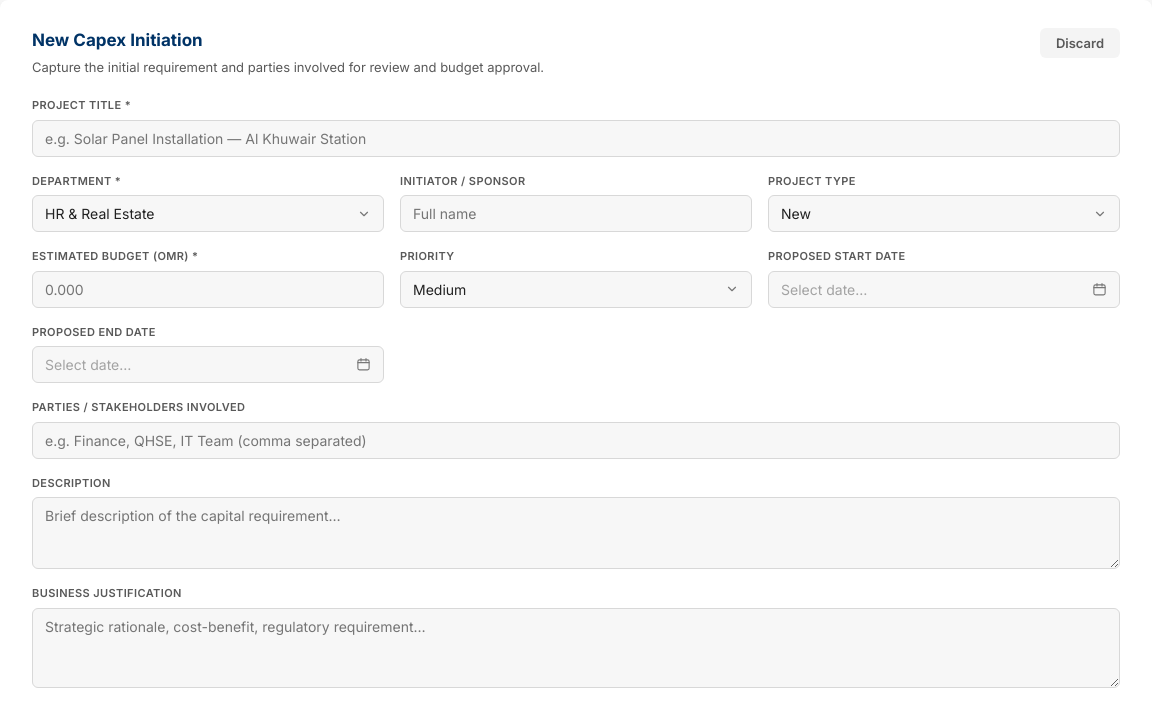
Test case: CapexInitiationForm — rendering › renders project type selector with all options
Click the dropdown named "Project Type" at x=796, y=214, box [768,195,1120,232]
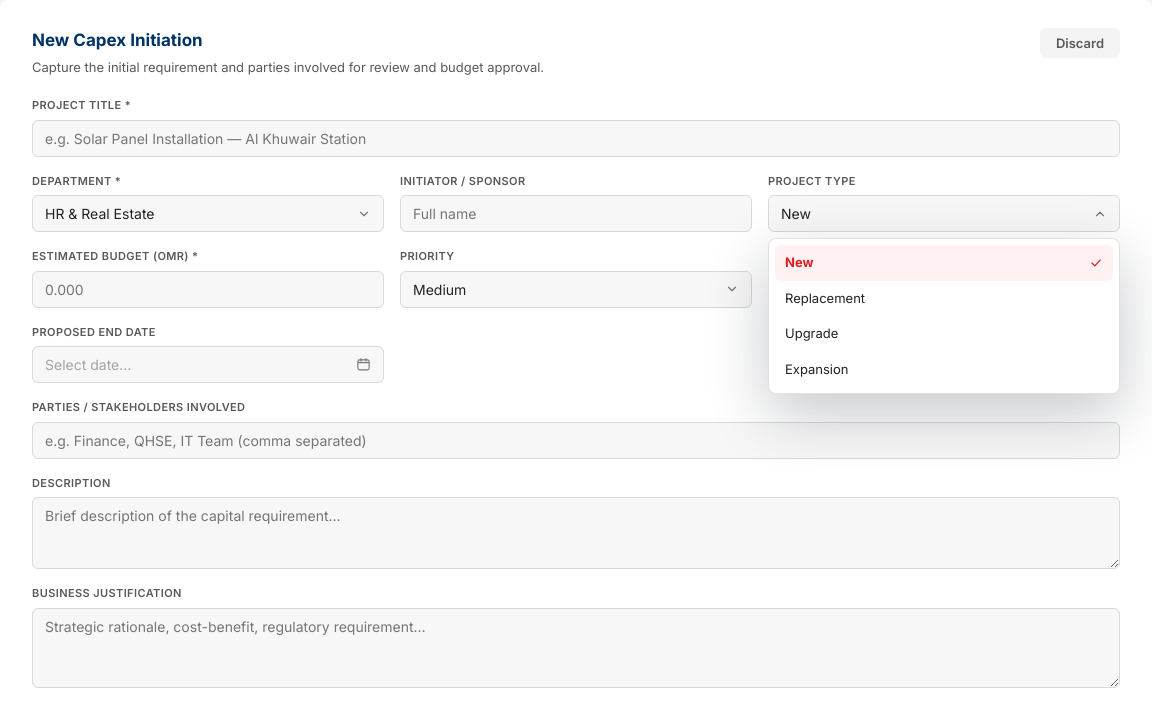
Expected: the options read "New", "Replacement", "Upgrade", "Expansion", in this order, [775,245,1113,280]; [785,290,865,306]; [785,325,838,341]; [785,360,848,376]
